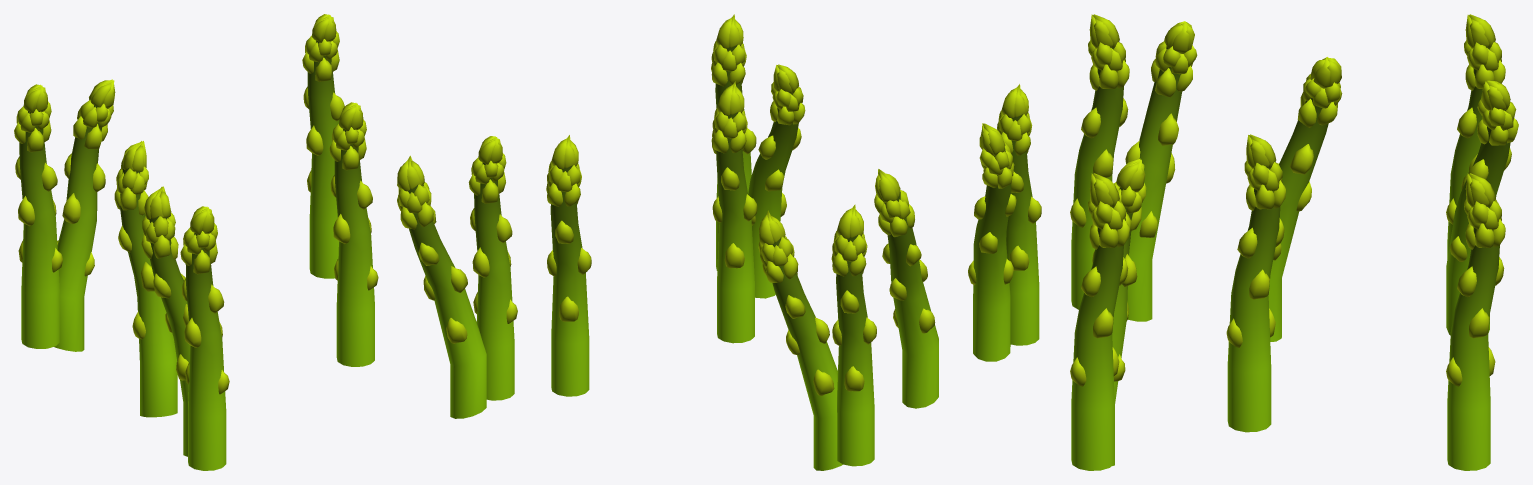
Rendered from Farm_Crop_Asparagus_Step_03.fbx.
3 renders of one model, left to right at view 1: azimuth 30°, elevation 25°; view 2: azimuth 150°, elevation 25°; view 3: azimuth 270°, elevation 25°, orthographic. The views are drawn at different scales.
Parts seen in each view (by area): view 1: Farm_Crop_Asparagus_Step_03; view 2: Farm_Crop_Asparagus_Step_03; view 3: Farm_Crop_Asparagus_Step_03.
Boxes of the visible parts, x1,y1,x2,y2 form: Farm_Crop_Asparagus_Step_03: [14, 14, 517, 470]; Farm_Crop_Asparagus_Step_03: [546, 14, 1041, 470]; Farm_Crop_Asparagus_Step_03: [1070, 14, 1518, 470].
Bounding box in the file's own units: 116 × 90.35 × 119.
